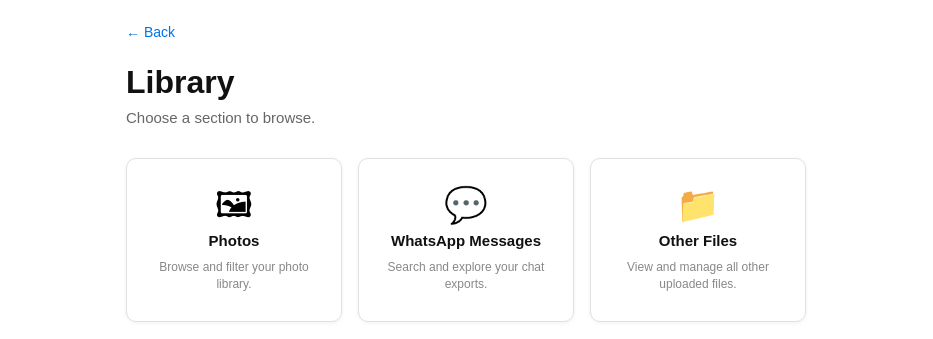
Scenario: LibraryPage › Photos button navigates to /library/photos
Click the button "🖼 Photos Browse and filter your photo library.". click: (234, 240)
box: top-left (126, 158), bottom-right (342, 322)
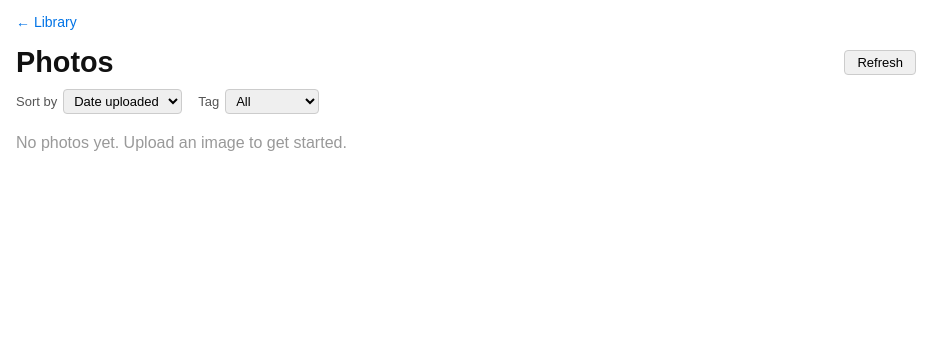
Now the heading "Photos" is shown, box top-left (16, 46), bottom-right (114, 79)
